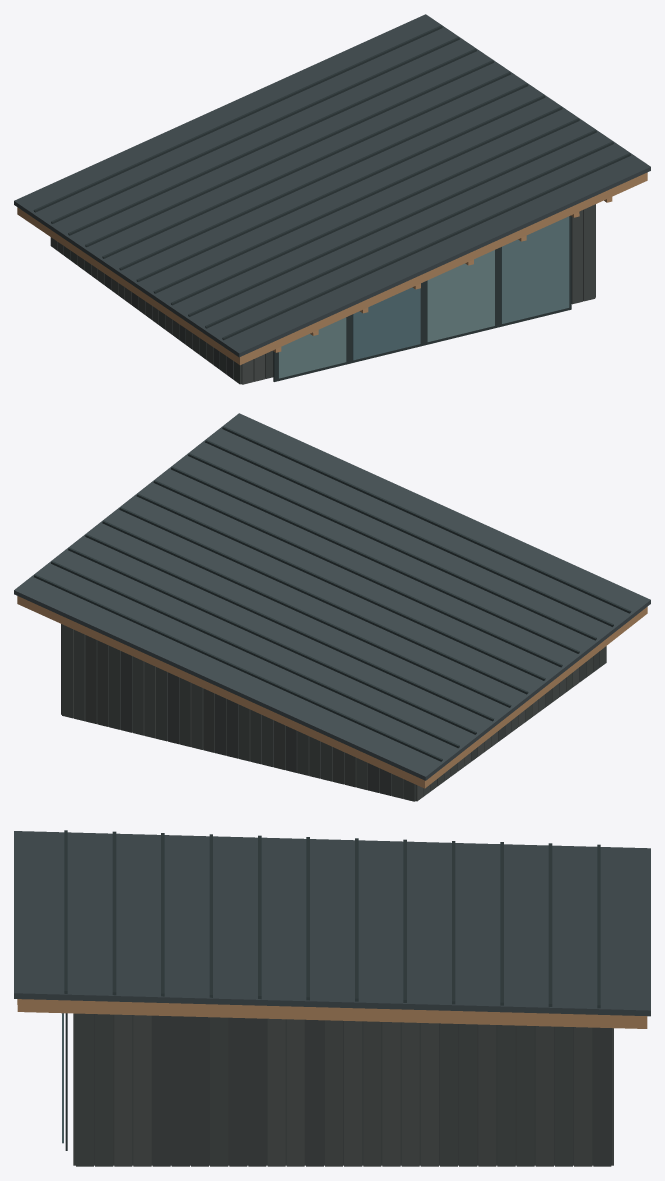
Rendered from single_shed.glb.
The picture shows the model from 3 angles, top to bottom: view 1: azimuth 30°, elevation 25°; view 2: azimuth 150°, elevation 25°; view 3: azimuth 270°, elevation 25°; orthographic projection. The views are drawn at different scales.
Parts seen in each view (by area): view 1: KitSingleShedRoofFinish, KitSingleShedDetails, KitSingleShedSiding; view 2: KitSingleShedRoofFinish, KitSingleShedDetails, KitSingleShedSiding; view 3: KitSingleShedRoofFinish, KitSingleShedSiding, KitSingleShedDetails.
Boxes of the visible parts, x1,y1,x2,y2 form: KitSingleShedRoofFinish: (14, 14, 650, 357); KitSingleShedDetails: (17, 25, 647, 381); KitSingleShedSiding: (50, 204, 595, 384); KitSingleShedRoofFinish: (14, 413, 650, 780); KitSingleShedDetails: (17, 426, 647, 788); KitSingleShedSiding: (61, 624, 606, 801); KitSingleShedRoofFinish: (14, 831, 650, 1016); KitSingleShedSiding: (73, 1013, 613, 1166); KitSingleShedDetails: (17, 830, 647, 1150).
Size of the model in its own units: 6.63 by 2.18 by 6.28.
